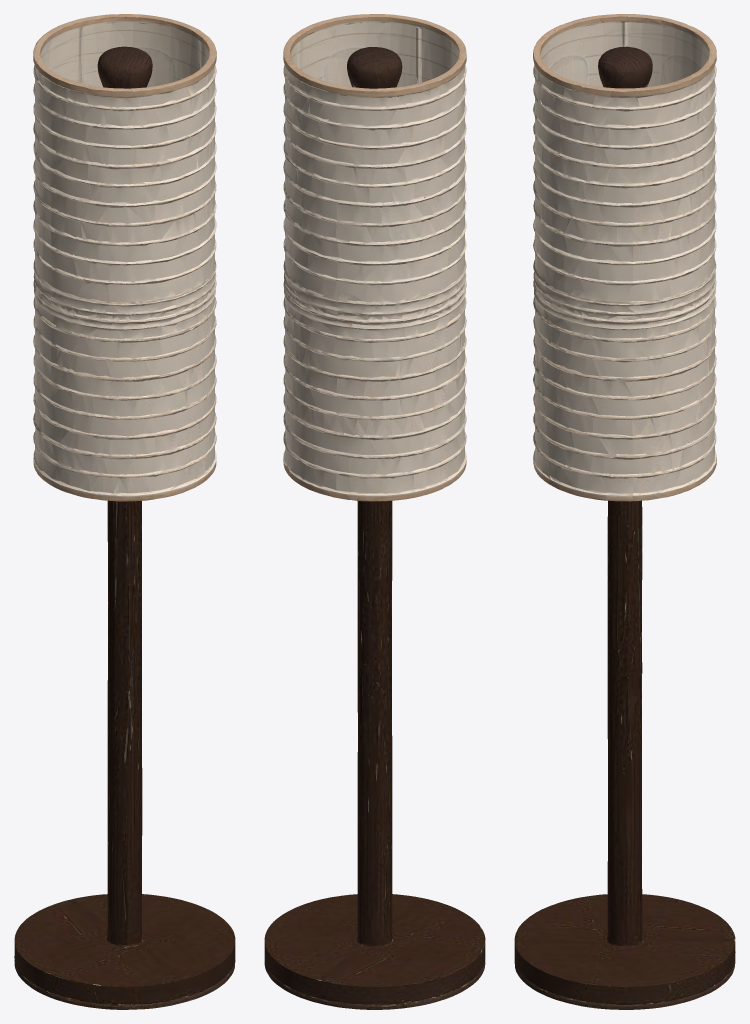
3 views of the same model, side by side, from view 1: azimuth 30°, elevation 25°; view 2: azimuth 150°, elevation 25°; view 3: azimuth 270°, elevation 25° (orthographic).
Parts seen in each view (by area): view 1: Mesh_0; view 2: Mesh_0; view 3: Mesh_0.
Part boxes in pixels (box(x1,y1,x2,y2)): Mesh_0: box(14, 14, 235, 1009); Mesh_0: box(264, 14, 485, 1009); Mesh_0: box(514, 14, 735, 1009).
Bounding box in the file's own units: 0.3605 × 1.64 × 0.3603.
1 material, 1 textured.
